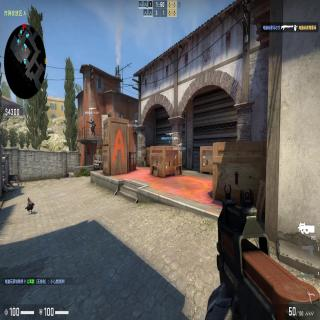CT-Body: (88, 116, 96, 136)
CT-Head: (90, 118, 93, 121)
